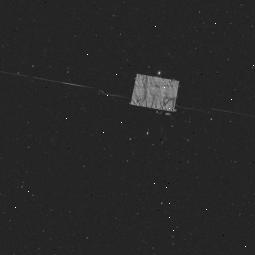smart_1: (102, 50, 202, 120)
